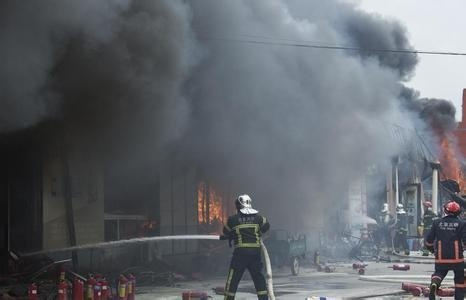fire: (439, 133, 466, 195), (195, 184, 226, 223)
